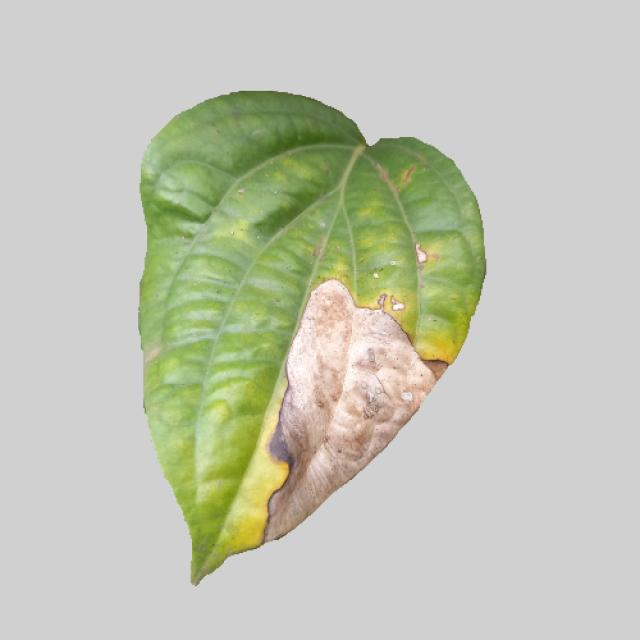leaf-blight: (133, 87, 492, 591)
